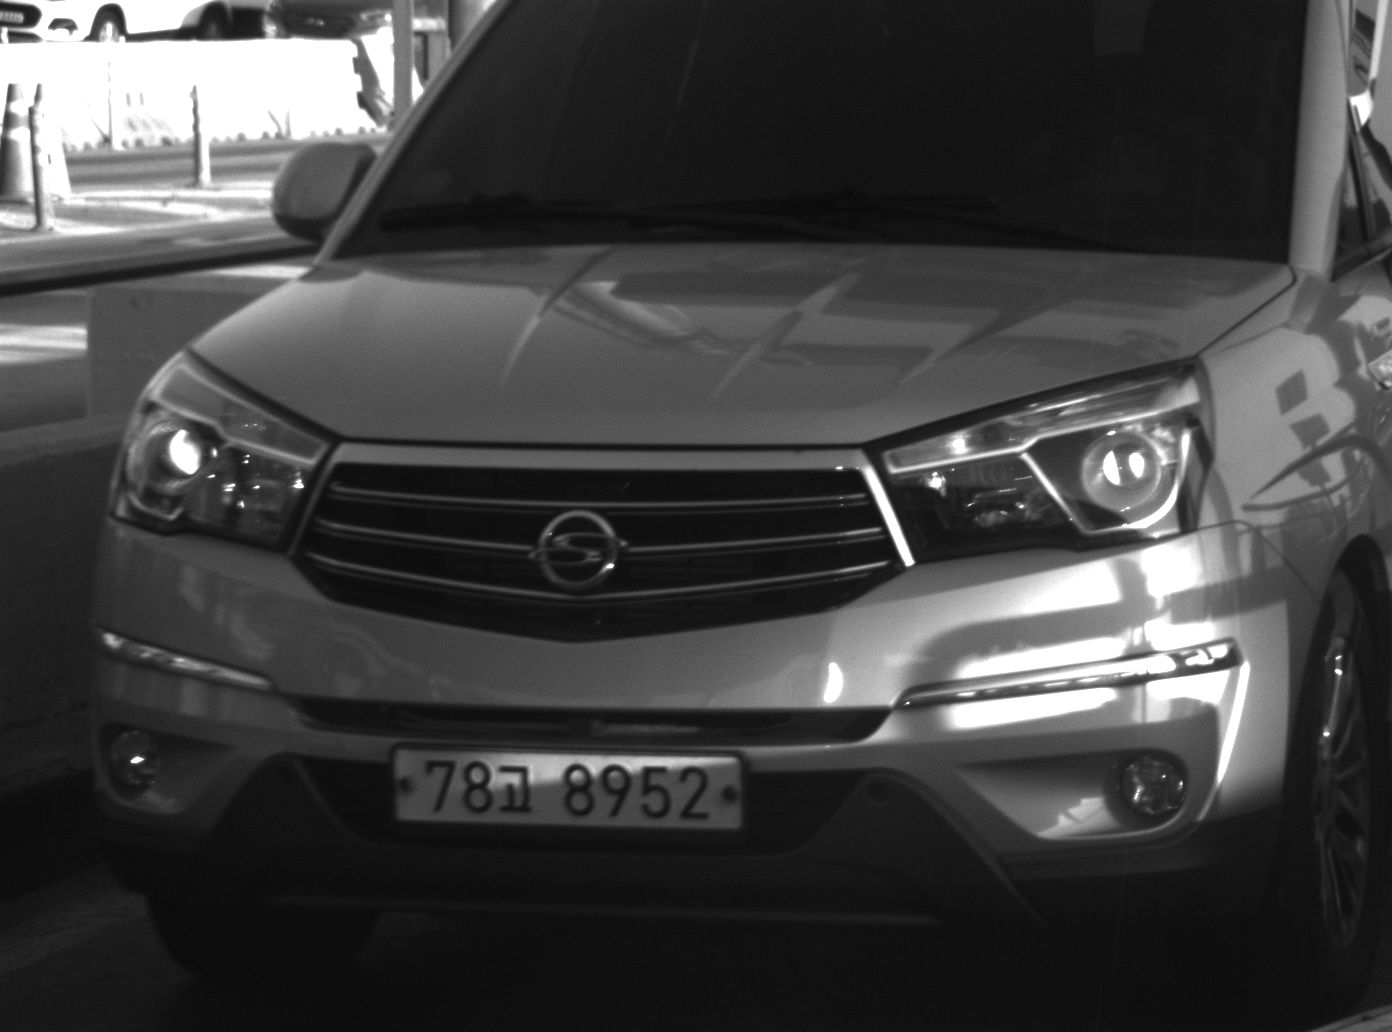car: (82, 2, 1387, 1010)
plate: (385, 741, 753, 840)
